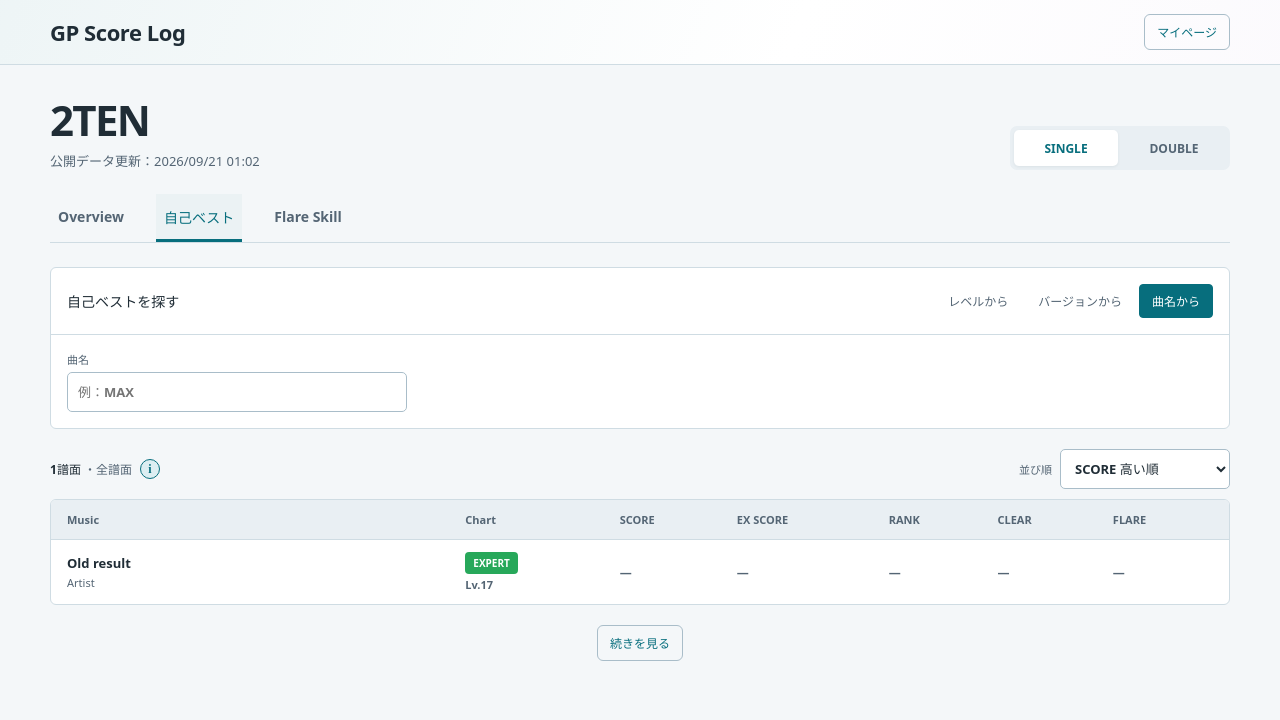
PlayerApp › ignores an old load-more retry after mode changes
Expected: the text "Old result" is shown, [67,554,131,572]
Click the button "続きを見る": (640, 643) [597,625,683,661]
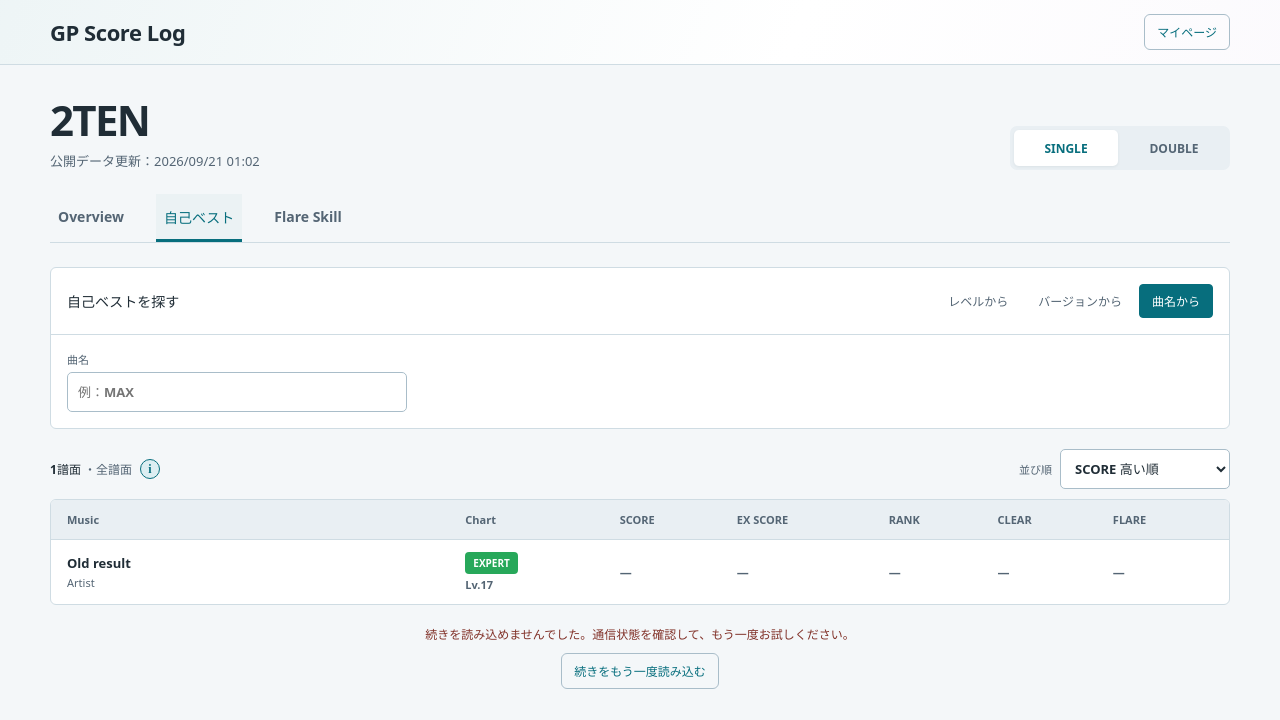
Expected: the text "Old result" is shown, [67,554,131,572]
Expected: the message shows "続きを読み込めませんでした", [425,626,855,643]
Click the button "続きをもう一度読み込む": (640, 671) [561,653,719,689]
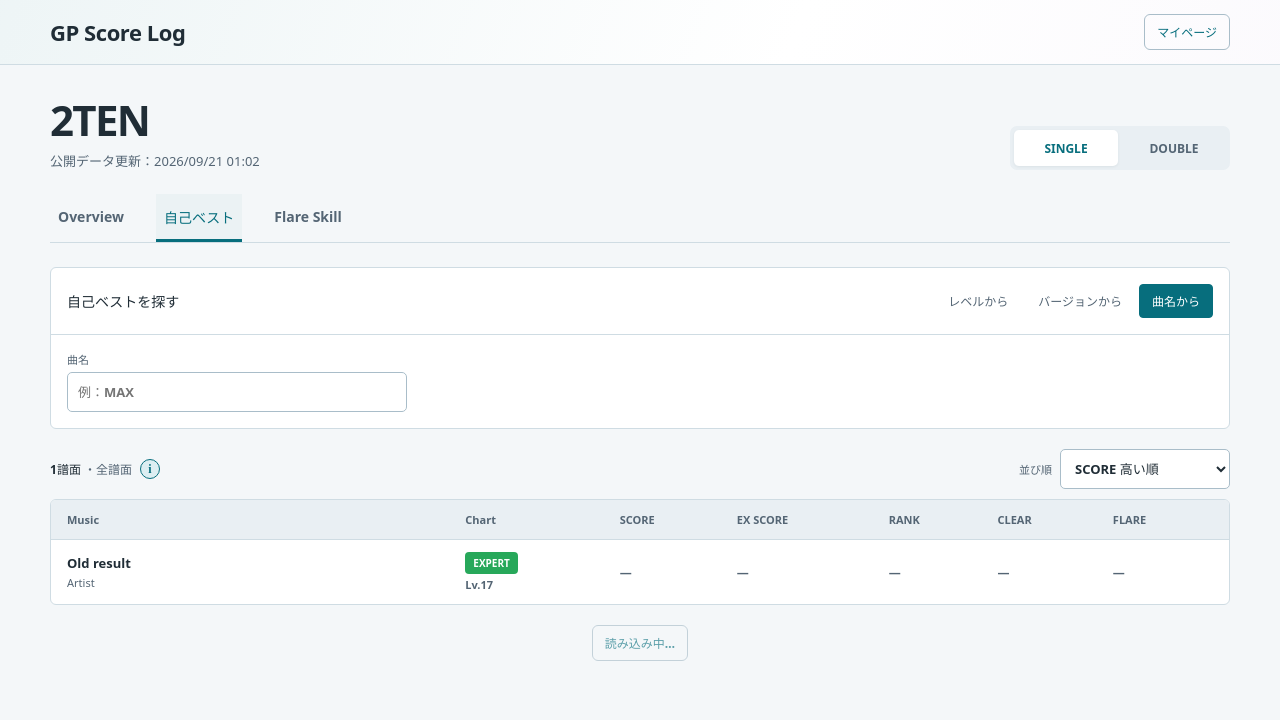
Click the tab "バージョンから": (1080, 301) [1025,284,1135,318]
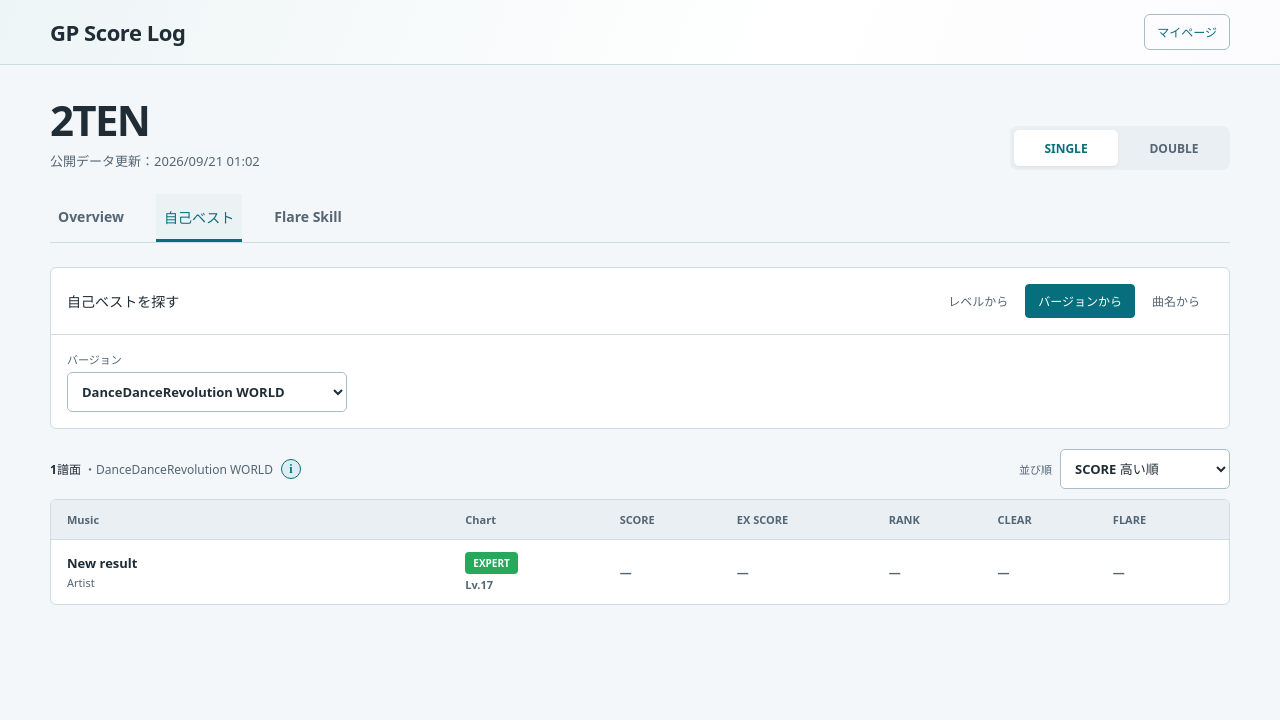
Expected: the message "続きを読み込めませんでした。通信状態を確認して、もう一度お試しください。" is not shown
Expected: the text "New result" is shown, [67,554,137,572]
